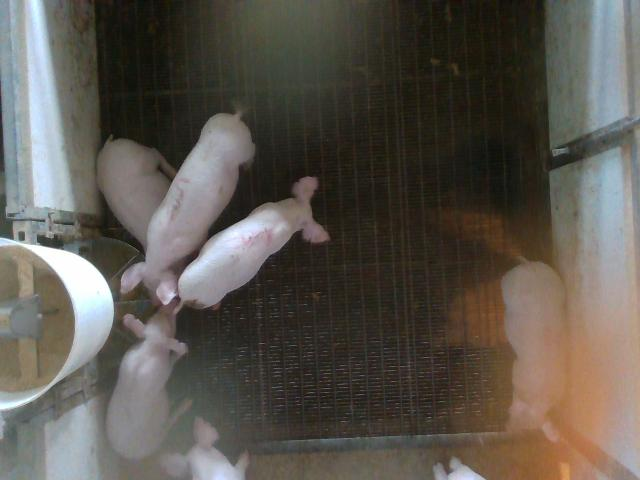pig-3: (122, 114, 254, 303)
pig-5: (179, 178, 329, 308)
